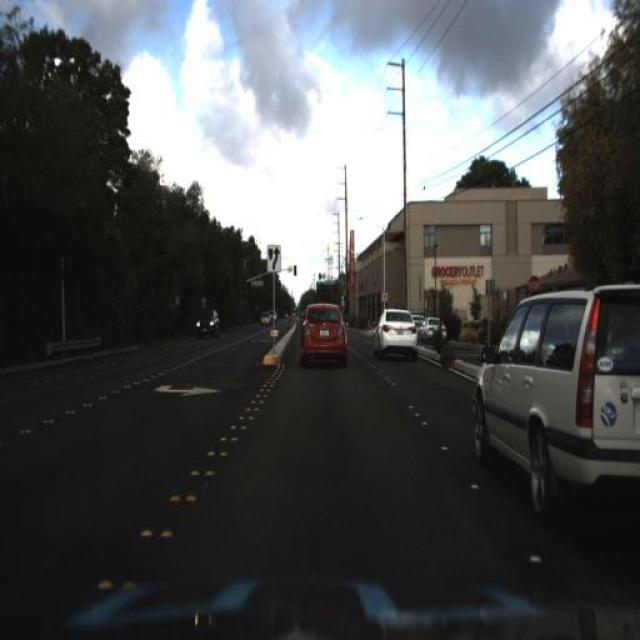car: (470, 265, 640, 574), (290, 298, 356, 374), (367, 296, 422, 370), (187, 298, 222, 338), (418, 311, 448, 344), (254, 304, 275, 330)
